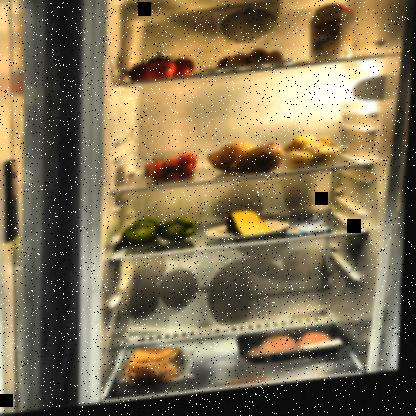apple: (123, 215, 200, 253)
cheese: (224, 213, 277, 245)
chicken: (236, 330, 359, 374)
chocolate: (281, 220, 336, 247)
eggs: (217, 51, 286, 79)
potato: (283, 137, 345, 176)
strawberries: (142, 154, 199, 189)
sweet_potato: (205, 142, 288, 185)
tomato: (128, 51, 198, 87)
